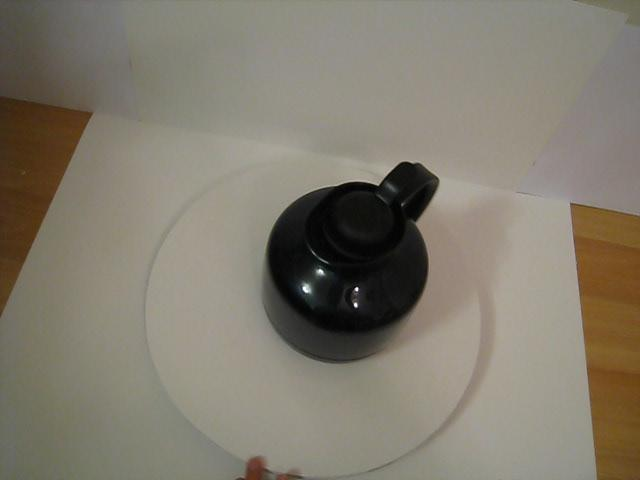pitcher: (257, 164, 458, 396)
